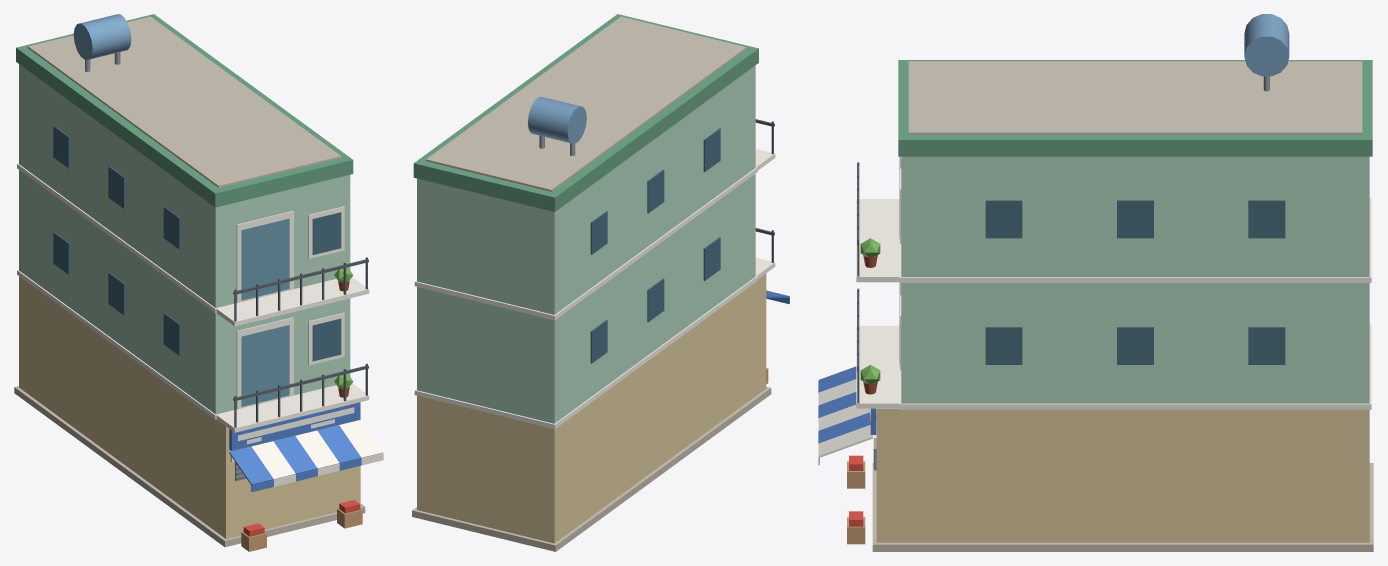
File: shophouse-02.glb
3 views of the same model, side by side, from view 1: azimuth 30°, elevation 25°; view 2: azimuth 150°, elevation 25°; view 3: azimuth 270°, elevation 25° (orthographic). The views are drawn at different scales.
Visible parts, largest first — view 1: Roof, GroundFloor, Floor3, Floor2, Windows3, Windows2, Awning, Balcony3, Balcony2, Base, Sign, RoofTank (+1 smaller); view 2: GroundFloor, Floor2, Floor3, Roof, Base, RoofTank, Windows3, Windows2, Balcony3; view 3: GroundFloor, Floor3, Floor2, Roof, Base, Windows3, Windows2, Balcony2, Balcony3, Awning, RoofTank, Goods.
Boxes of the visible parts, x1=… form: Roof: x1=16, y1=14, x2=353, y2=207; GroundFloor: x1=19, y1=276, x2=360, y2=538; Floor3: x1=17, y1=64, x2=350, y2=313; Floor2: x1=17, y1=170, x2=350, y2=419; Windows3: x1=53, y1=125, x2=344, y2=302; Windows2: x1=53, y1=232, x2=344, y2=409; Awning: x1=229, y1=420, x2=383, y2=491; Balcony3: x1=216, y1=257, x2=369, y2=326; Balcony2: x1=216, y1=363, x2=369, y2=432; Base: x1=14, y1=386, x2=365, y2=547; Sign: x1=229, y1=402, x2=360, y2=450; RoofTank: x1=73, y1=14, x2=131, y2=71; GroundFloor: x1=417, y1=273, x2=766, y2=543; Floor2: x1=414, y1=174, x2=757, y2=429; Floor3: x1=414, y1=65, x2=757, y2=320; Roof: x1=413, y1=14, x2=758, y2=211; Base: x1=412, y1=387, x2=771, y2=551; RoofTank: x1=527, y1=97, x2=586, y2=155; Windows3: x1=590, y1=128, x2=720, y2=254; Windows2: x1=590, y1=237, x2=720, y2=363; Balcony3: x1=755, y1=119, x2=775, y2=170; GroundFloor: x1=876, y1=408, x2=1369, y2=542; Floor3: x1=899, y1=156, x2=1371, y2=282; Floor2: x1=899, y1=283, x2=1371, y2=409; Roof: x1=898, y1=60, x2=1372, y2=156; Base: x1=872, y1=463, x2=1373, y2=551; Windows3: x1=899, y1=156, x2=1285, y2=243; Windows2: x1=899, y1=283, x2=1285, y2=370; Balcony2: x1=856, y1=288, x2=901, y2=408; Balcony3: x1=856, y1=162, x2=901, y2=282; Awning: x1=818, y1=366, x2=872, y2=465; RoofTank: x1=1244, y1=14, x2=1289, y2=91; Goods: x1=847, y1=455, x2=865, y2=544.
Bounding box in the file's own units: 4.7 × 12.64 × 13.52.
